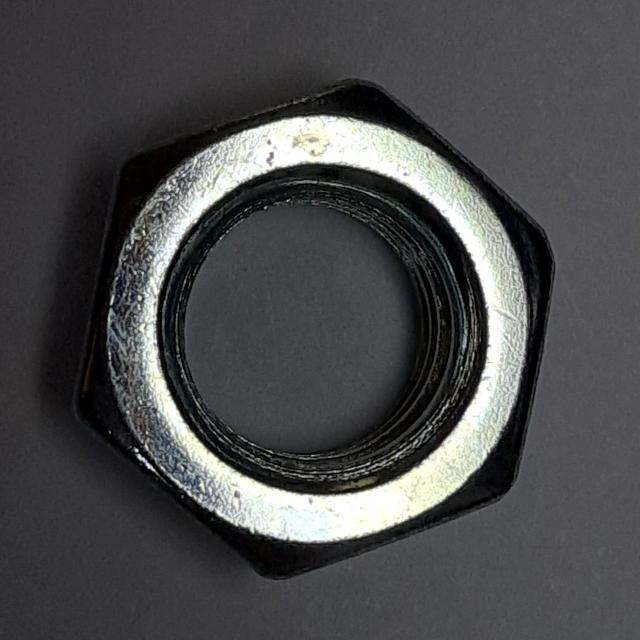Excellent: (51, 72, 573, 592)
